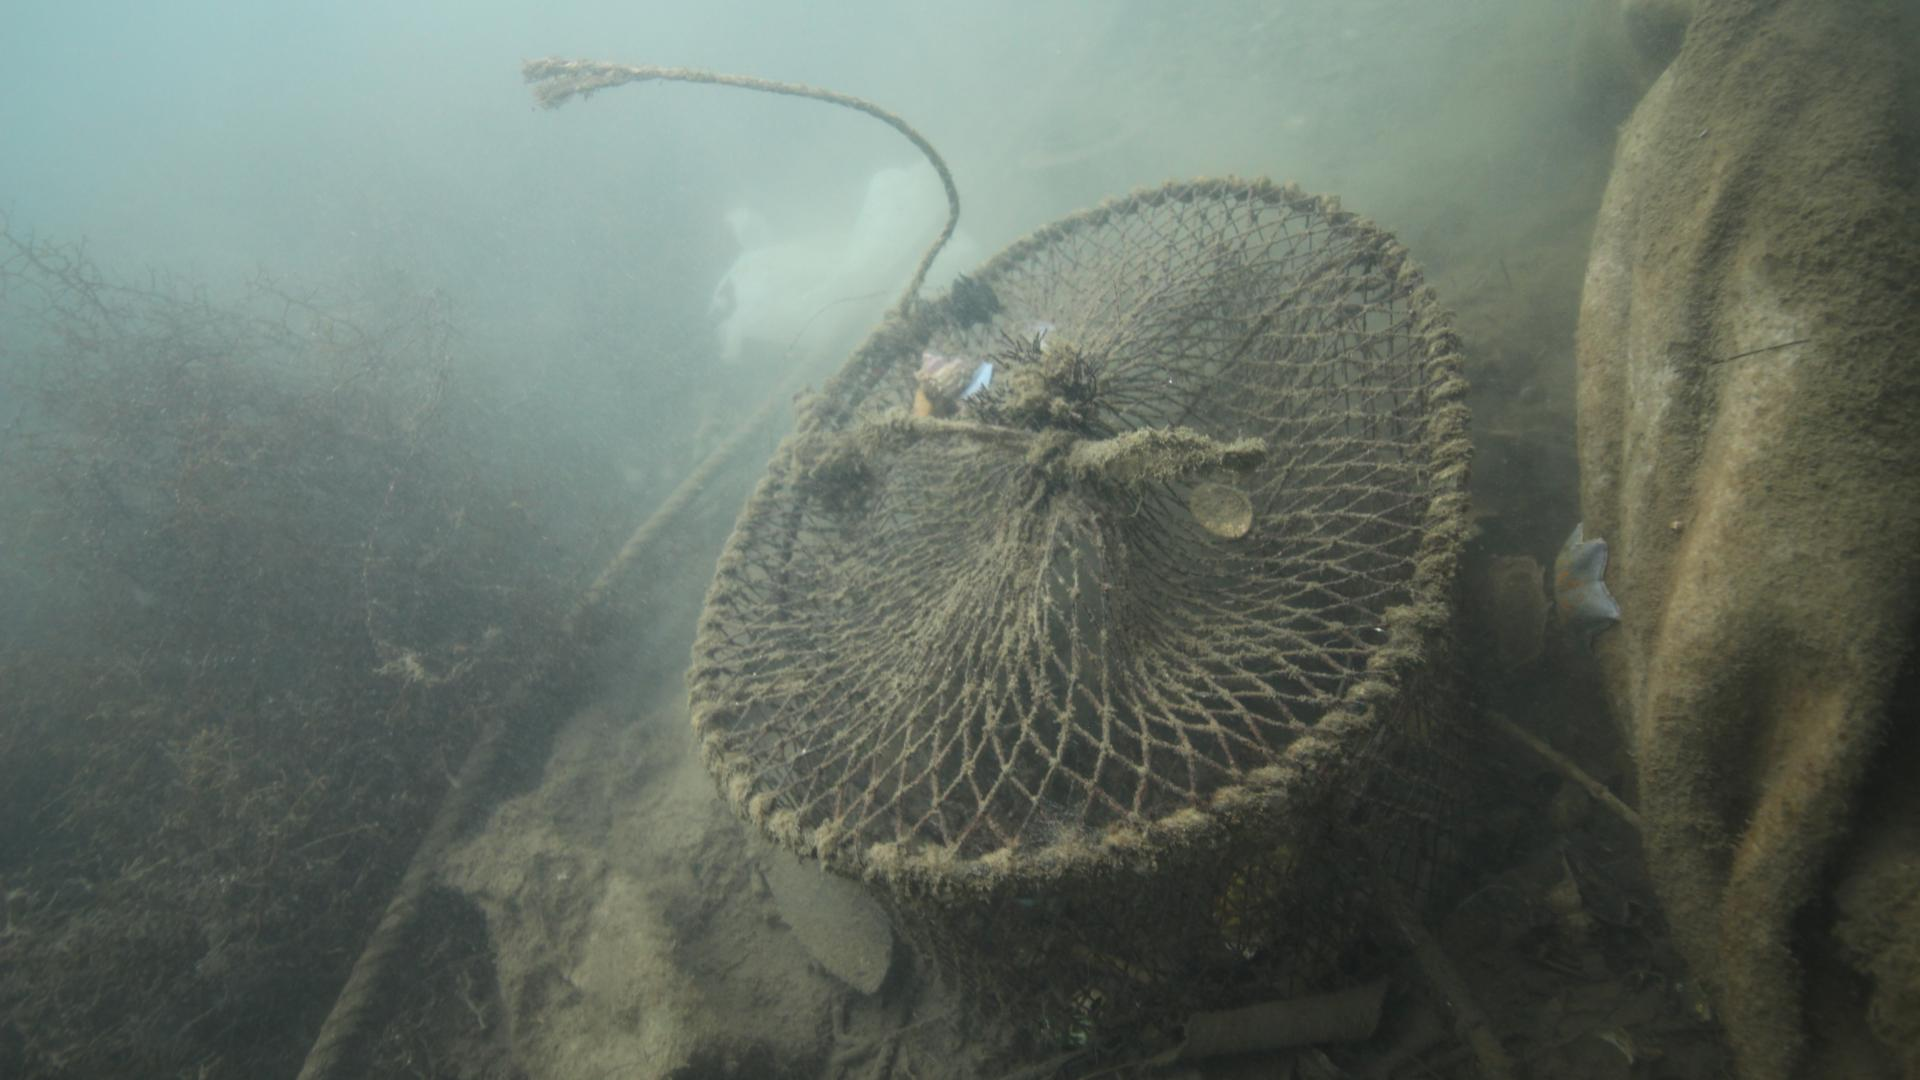circular fish trap: (687, 173, 1474, 1048)
rope: (295, 472, 686, 1080), (650, 65, 967, 313)
